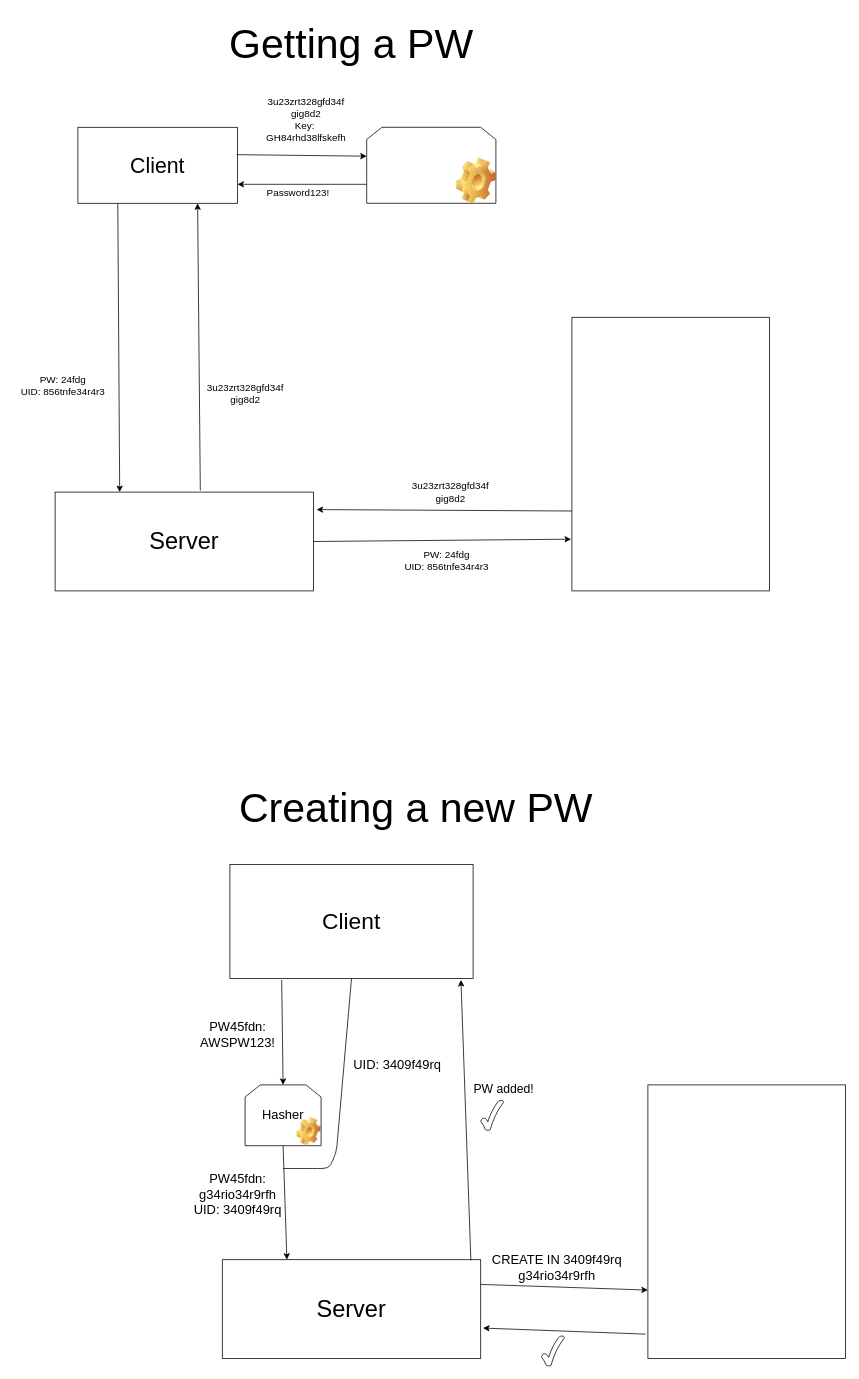
Image size: 859x1379. Some labels were removed from this diagram. The box of each missing label's shape, as (x1, y1, x2, y2) in pixels:
Database PW24fdg: 3u23zrt328gfd34f gig8d2: (571, 317, 770, 591)
Database PW45fdn: g34rio34r9rfh: (647, 1084, 846, 1358)
Unhasher: (366, 127, 496, 203)
